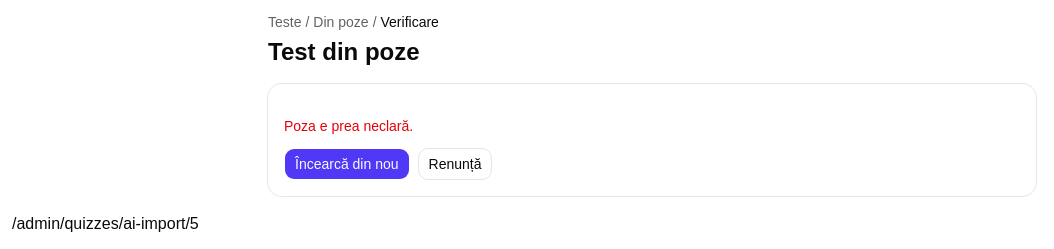
AdminAiImportPage › offers to try a failed read again
Check: the text "Poza e prea neclară." is shown, box top-left (284, 118), bottom-right (413, 134)
Click the button "Încearcă din nou". click: click(347, 164)
box: top-left (284, 148), bottom-right (410, 180)
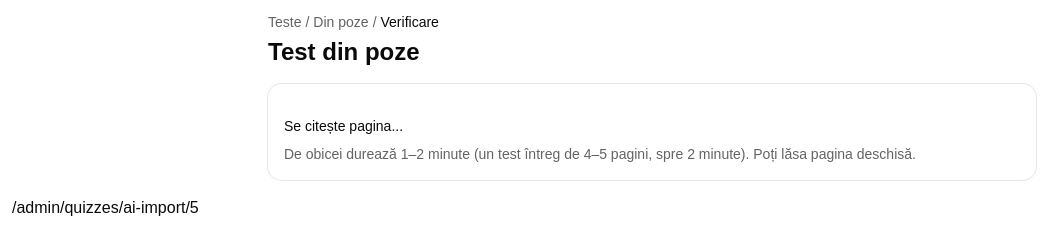
Check: the text "Se citește pagina..." is shown, box top-left (284, 118), bottom-right (403, 134)
